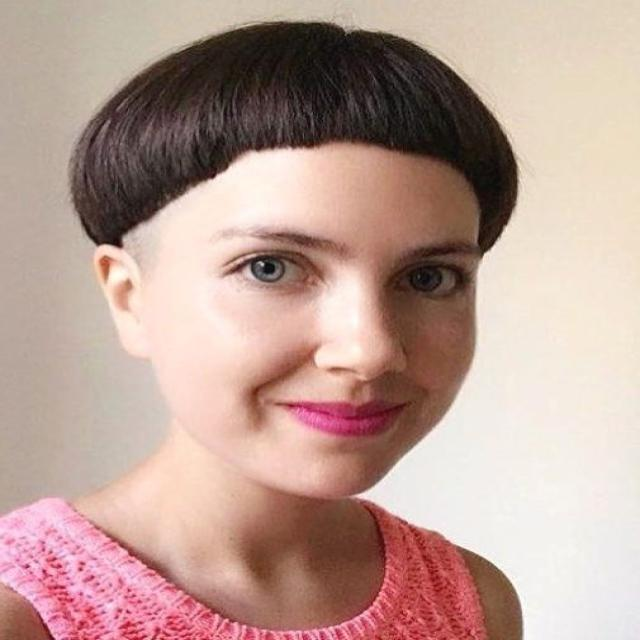Nonhelmet: (63, 18, 525, 502)
